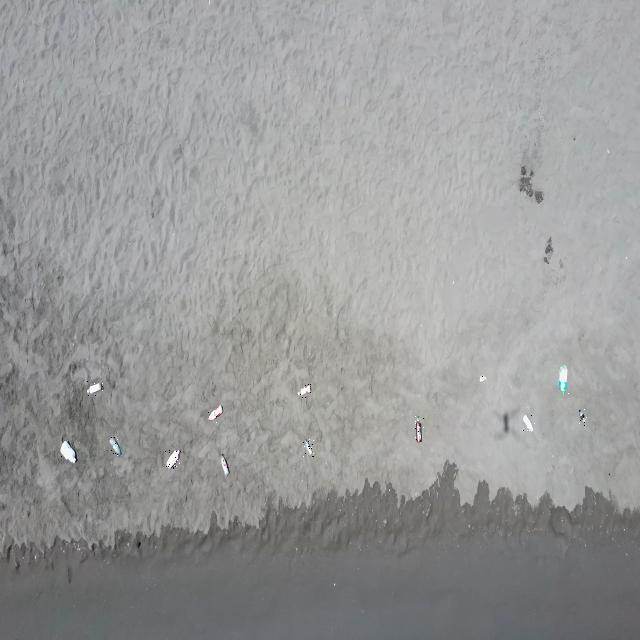Garbage: (60, 440, 74, 463), (557, 364, 567, 395), (543, 236, 552, 263), (108, 435, 120, 455), (166, 449, 179, 467), (207, 404, 220, 420), (87, 382, 103, 393), (220, 453, 228, 475), (415, 417, 422, 442), (296, 384, 310, 396), (577, 408, 586, 426), (524, 413, 532, 431), (303, 439, 312, 455), (480, 375, 486, 382)
